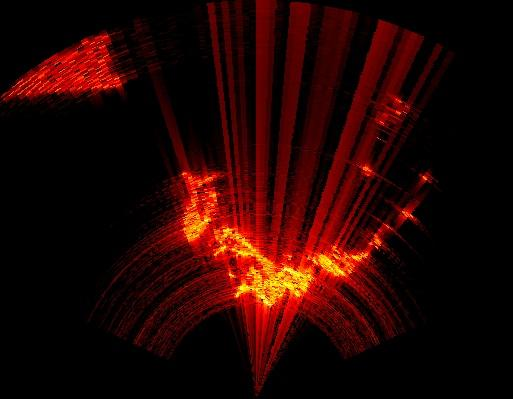shipwreck: (182, 172, 390, 306), (0, 31, 130, 103)
